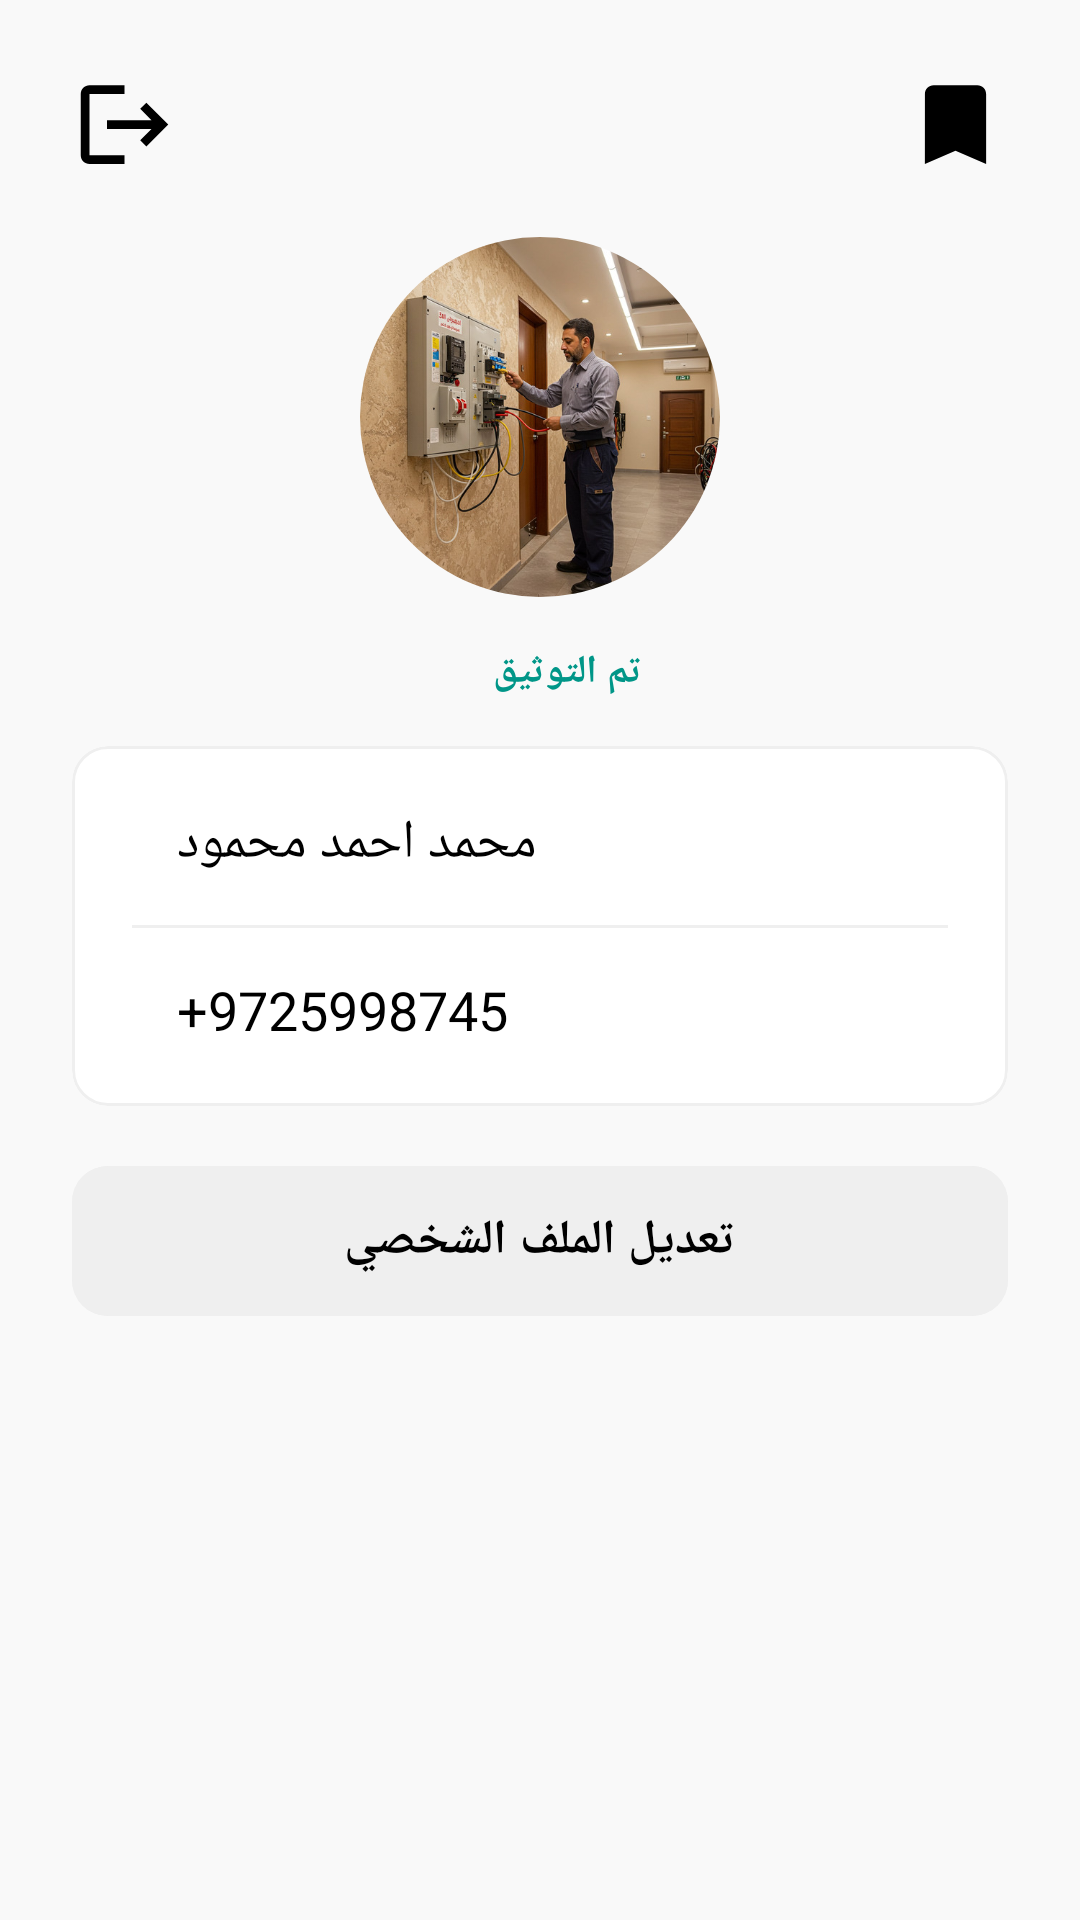

Icon click points for this 1080x1920 phone screenshot, format (x,y):
bookmark: (955,124)
